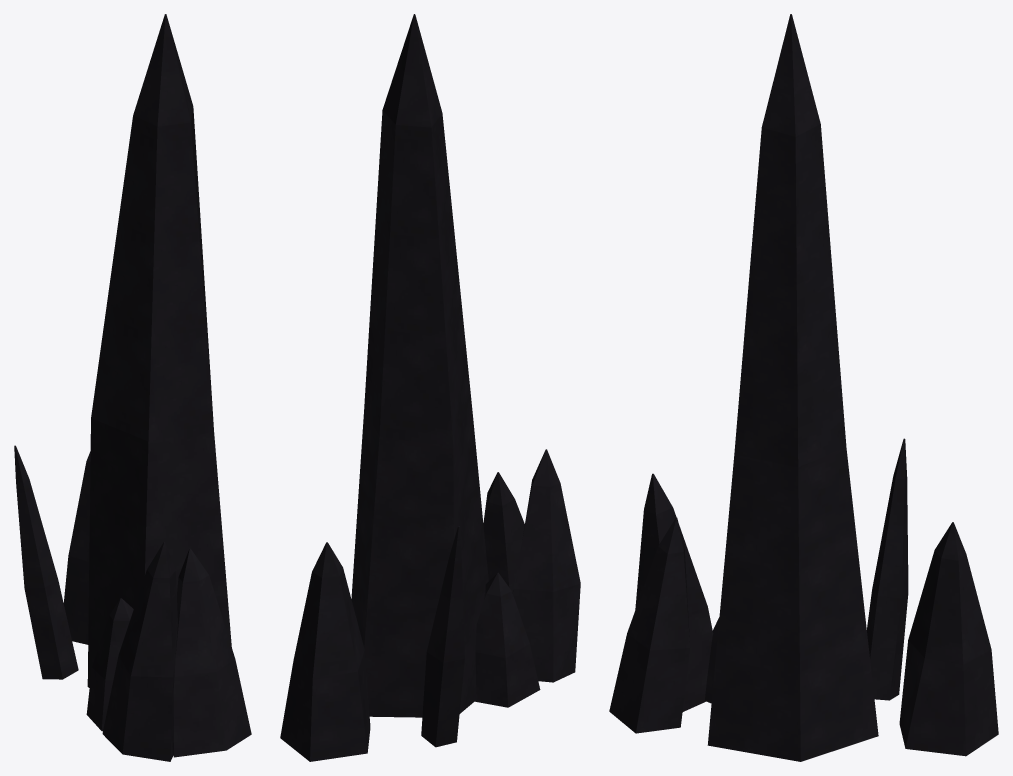
The model's file is obsidian_spire.glb.
3 views of the same model, side by side, from view 1: azimuth 30°, elevation 25°; view 2: azimuth 150°, elevation 25°; view 3: azimuth 270°, elevation 25° (orthographic). The views are drawn at different scales.
Parts seen in each view (by area): view 1: Spire; view 2: Spire; view 3: Spire.
Part boxes in pixels (x1,y1,x2,y2): Spire: (14, 14, 251, 761); Spire: (280, 14, 580, 761); Spire: (609, 14, 998, 761).
Size of what is drawn, in the model's own units: 4.62 by 18.16 by 8.89.
Materials: 2 (1 with a texture image).
